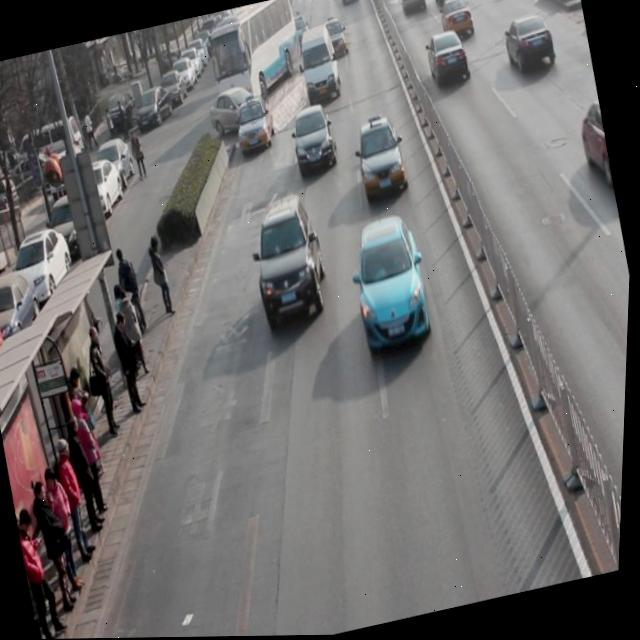car: (345, 211, 441, 356), (244, 192, 337, 329), (352, 114, 413, 202), (573, 95, 618, 195), (289, 103, 343, 177), (205, 82, 271, 141), (500, 14, 558, 77), (230, 96, 281, 158), (423, 30, 473, 92), (437, 0, 477, 43), (318, 14, 351, 61), (396, 0, 429, 19)
truck: (294, 23, 347, 108), (427, 0, 461, 8)
van: (200, 0, 310, 112)
